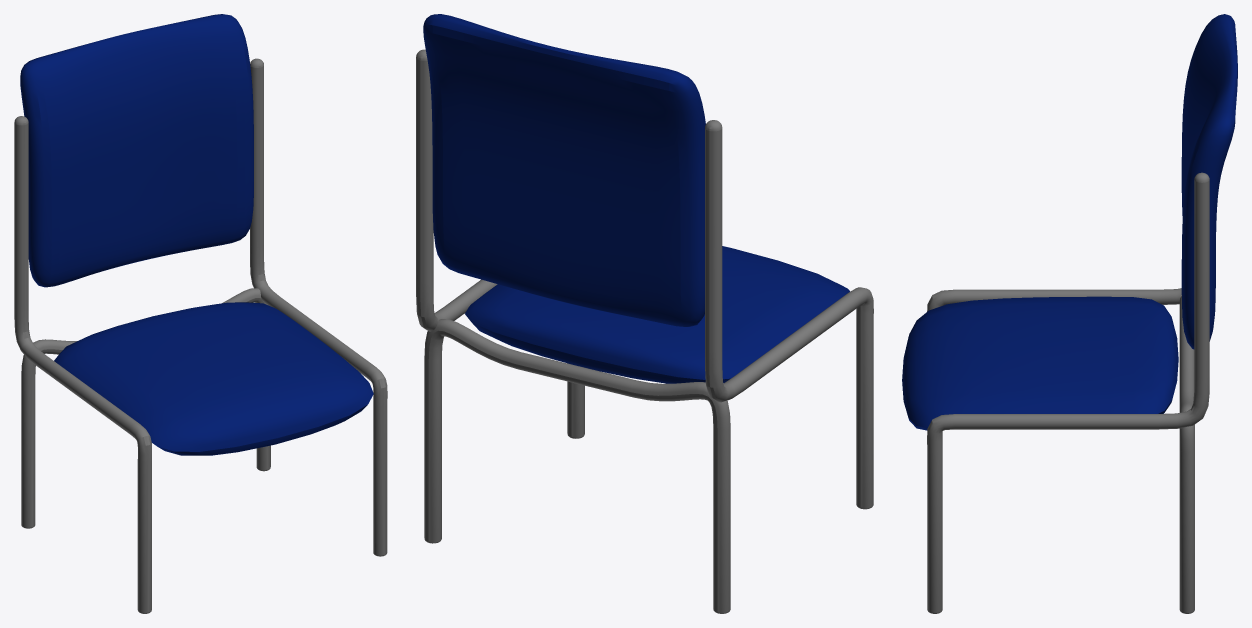
Rendered from cadeira.fbx.
3 renders of one model, left to right at view 1: azimuth 30°, elevation 25°; view 2: azimuth 150°, elevation 25°; view 3: azimuth 270°, elevation 25°, orthographic. The views are drawn at different scales.
Visible parts, largest first — view 1: CimaCadeira, BaseCadeira; view 2: CimaCadeira, BaseCadeira; view 3: CimaCadeira, BaseCadeira.
Part boxes in pixels (x1,y1,x2,y2): CimaCadeira: (20,14,373,455); BaseCadeira: (14,58,387,613); CimaCadeira: (423,14,849,383); BaseCadeira: (416,49,873,613); CimaCadeira: (902,14,1237,430); BaseCadeira: (927,172,1209,613).
Bounding box in the file's own units: 87.23 × 150 × 94.58.
